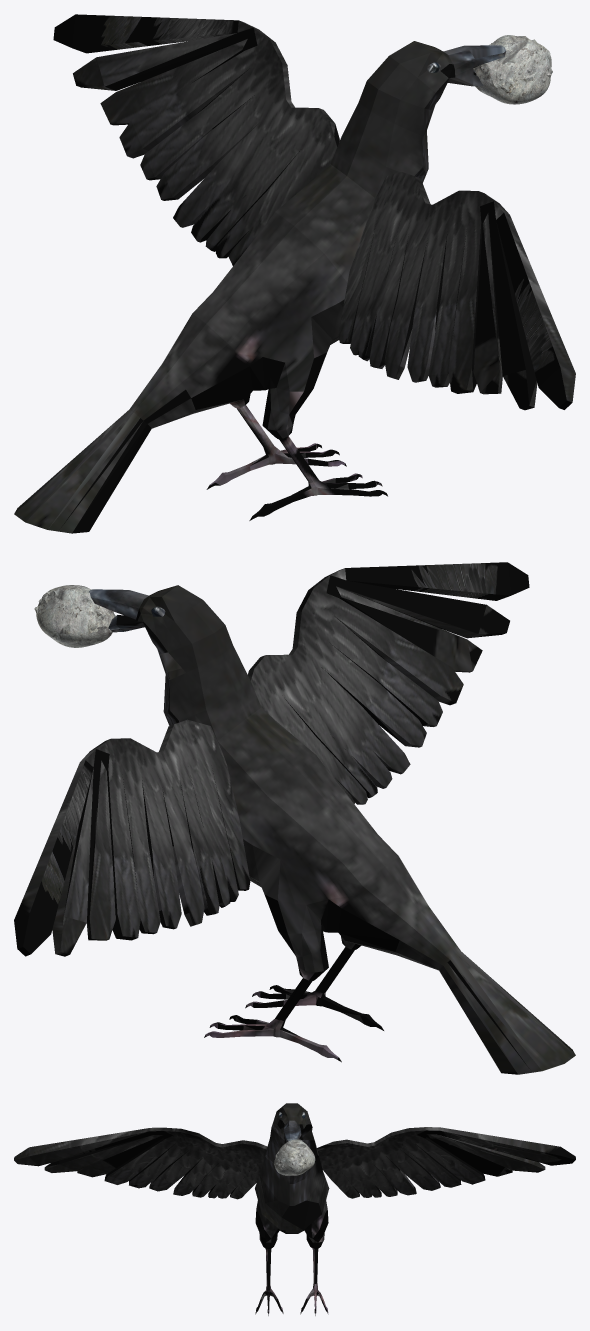
Rendered from crowTextureAnimPebble_000018.obj.
3 renders of one model, top to bottom at view 1: azimuth 30°, elevation 25°; view 2: azimuth 150°, elevation 25°; view 3: azimuth 270°, elevation 25°, orthographic. The views are drawn at different scales.
Visible parts, largest first — view 1: Cylinder.001, Cylinder.002, Cylinder.003, Icosphere_Icosphere.002; view 2: Cylinder.001, Cylinder.003, Cylinder.002, Icosphere_Icosphere.002; view 3: Cylinder.002, Cylinder.003, Cylinder.001, Icosphere_Icosphere.002.
Part boxes in pixels (<box>): Cylinder.001: <box>14,41,506,533</box>; Cylinder.002: <box>53,14,339,265</box>; Cylinder.003: <box>338,172,575,410</box>; Icosphere_Icosphere.002: <box>473,35,552,104</box>; Cylinder.001: <box>89,585,575,1074</box>; Cylinder.003: <box>248,562,529,804</box>; Cylinder.002: <box>14,719,250,956</box>; Icosphere_Icosphere.002: <box>34,585,115,647</box>; Cylinder.002: <box>317,1127,575,1198</box>; Cylinder.003: <box>14,1127,267,1199</box>; Cylinder.001: <box>255,1103,329,1315</box>; Icosphere_Icosphere.002: <box>274,1139,315,1175</box>.
Size of the model in its own units: 5.55 by 4.1 by 9.22.
